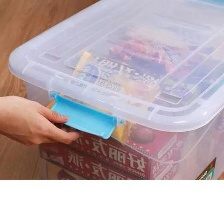plastic_box: (3, 0, 224, 178)
